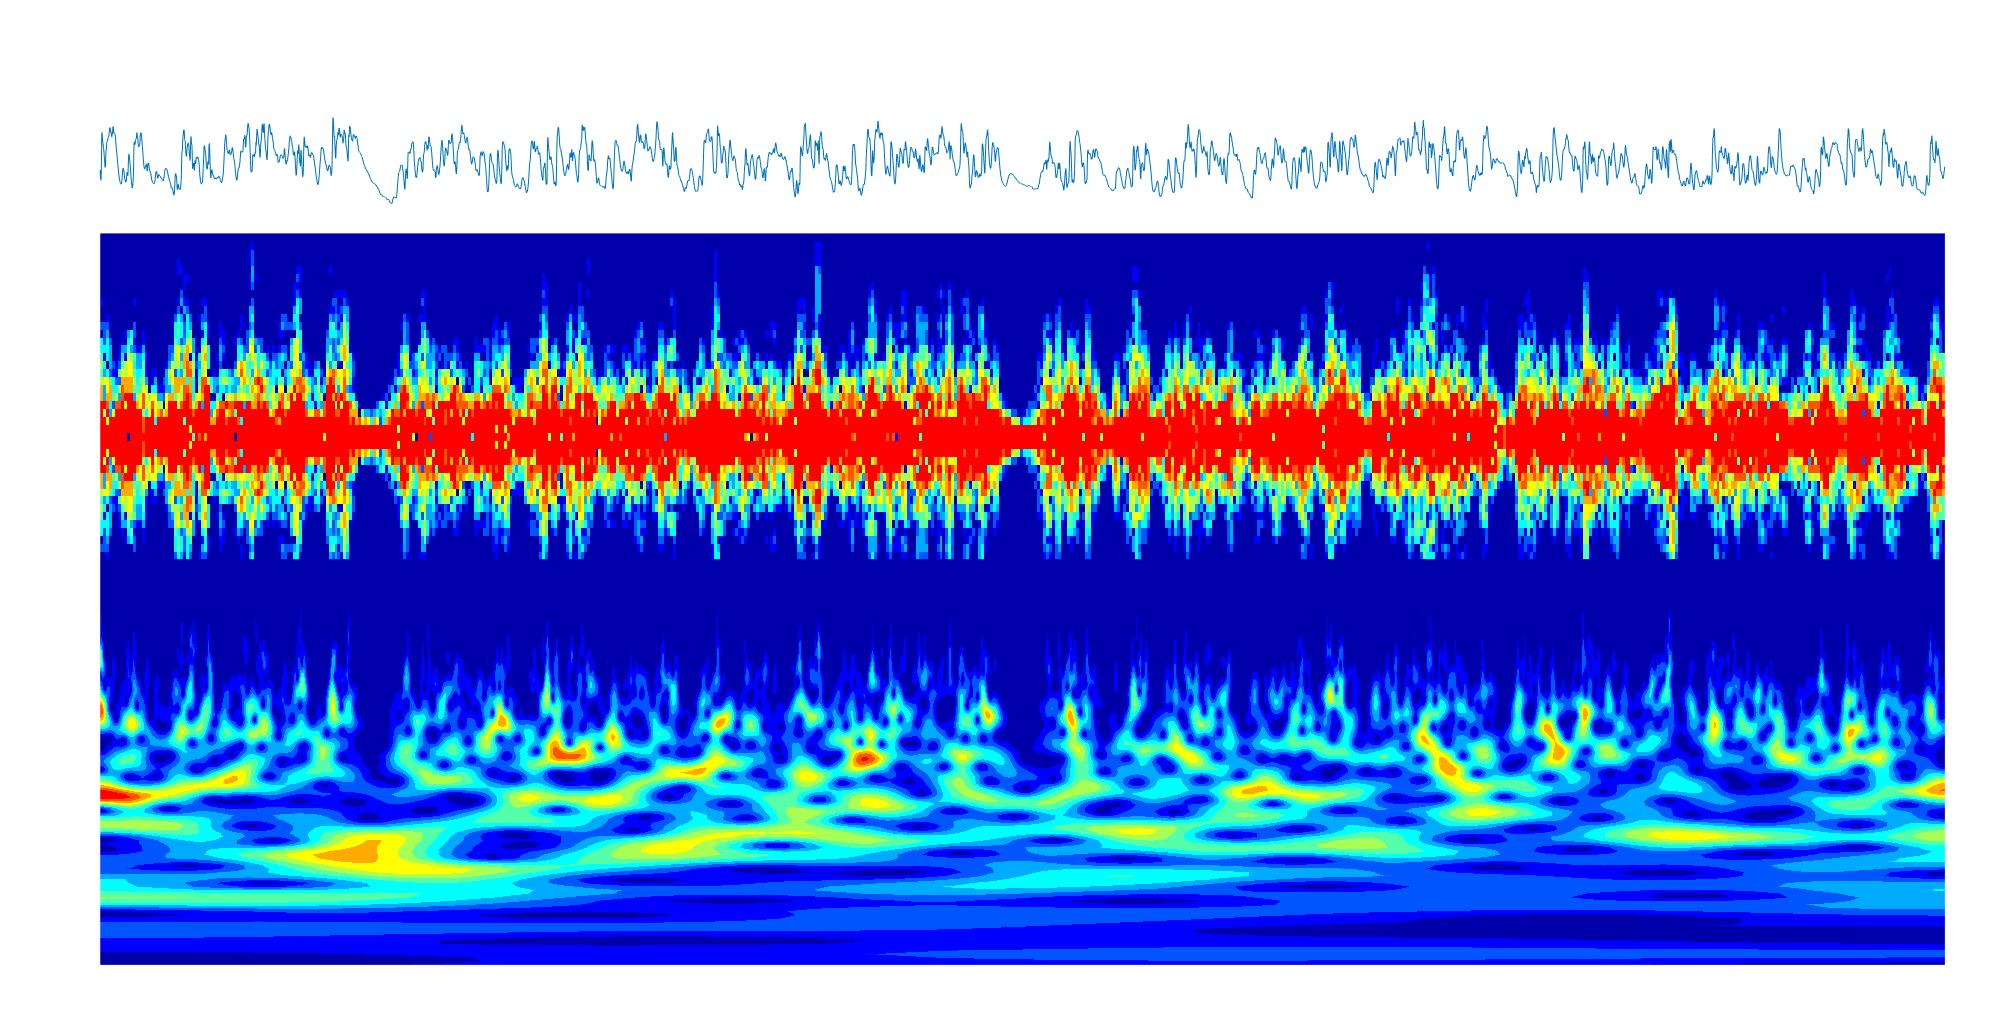TURBULENT: (1041, 236, 1945, 963), (398, 235, 1002, 963), (102, 235, 352, 967)
